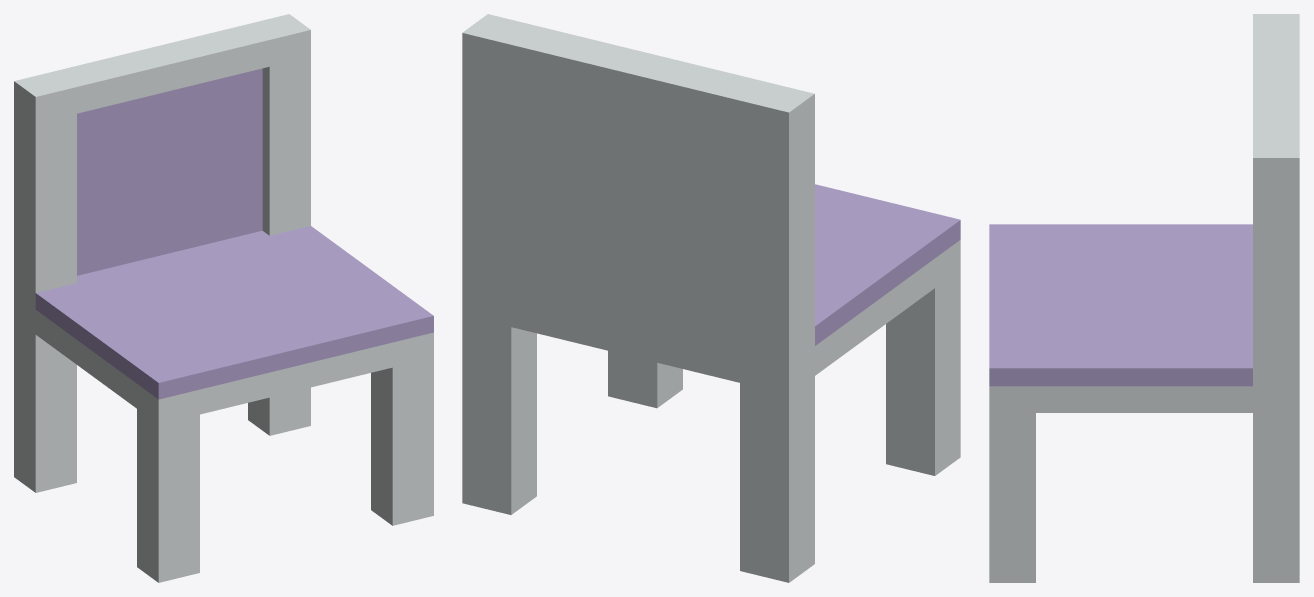
The model's file is guest-chair.glb.
3 views of the same model, side by side, from view 1: azimuth 30°, elevation 25°; view 2: azimuth 150°, elevation 25°; view 3: azimuth 270°, elevation 25° (orthographic). The views are drawn at different scales.
Visible parts, largest first — view 1: vendor-aluminium, vendor-lavender; view 2: vendor-aluminium, vendor-lavender; view 3: vendor-lavender, vendor-aluminium.
Part boxes in pixels (bbox=[...]): vendor-aluminium: bbox=[14, 14, 433, 582]; vendor-lavender: bbox=[35, 68, 433, 399]; vendor-aluminium: bbox=[462, 14, 960, 582]; vendor-lavender: bbox=[815, 184, 960, 345]; vendor-lavender: bbox=[989, 224, 1252, 386]; vendor-aluminium: bbox=[989, 14, 1299, 582].
Bounding box in the file's own units: 1.22 × 1.68 × 1.11.
Materials: 1 (1 with a texture image).
